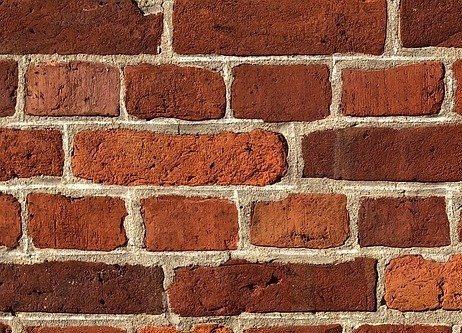brick: (170, 1, 387, 55), (167, 263, 379, 313), (75, 128, 284, 178), (1, 1, 162, 56), (1, 262, 160, 315), (304, 130, 462, 182), (21, 193, 128, 248), (232, 61, 333, 115), (23, 60, 120, 116), (124, 65, 225, 117), (339, 61, 442, 111), (140, 196, 239, 247), (250, 199, 352, 246), (356, 196, 452, 244), (398, 1, 462, 51), (1, 130, 64, 179)
